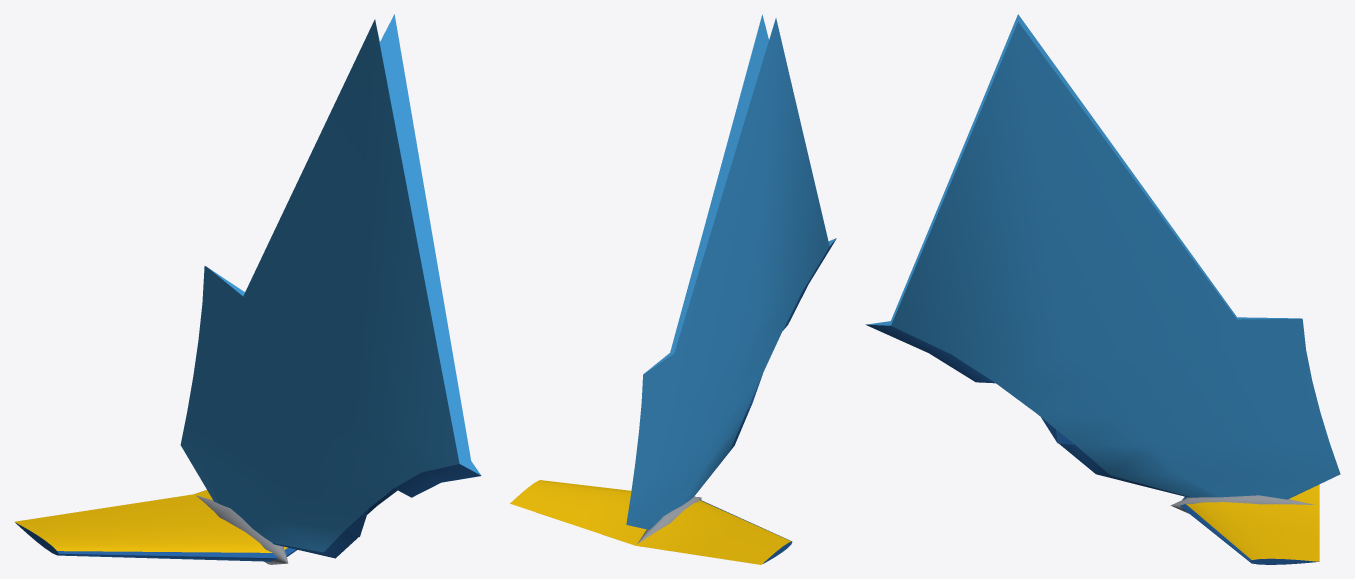
Rendered from strix_tail_lg.fbx.
3 renders of one model, left to right at view 1: azimuth 30°, elevation 25°; view 2: azimuth 150°, elevation 25°; view 3: azimuth 270°, elevation 25°, orthographic. The views are drawn at different scales.
Visible parts, largest first — view 1: Tail_T; view 2: Tail_T; view 3: Tail_T.
Part boxes in pixels (bbox=[...]): Tail_T: bbox=[14, 14, 481, 564]; Tail_T: bbox=[510, 14, 836, 564]; Tail_T: bbox=[865, 14, 1340, 564].
Size of the model in its own units: 92 by 155 by 133.
